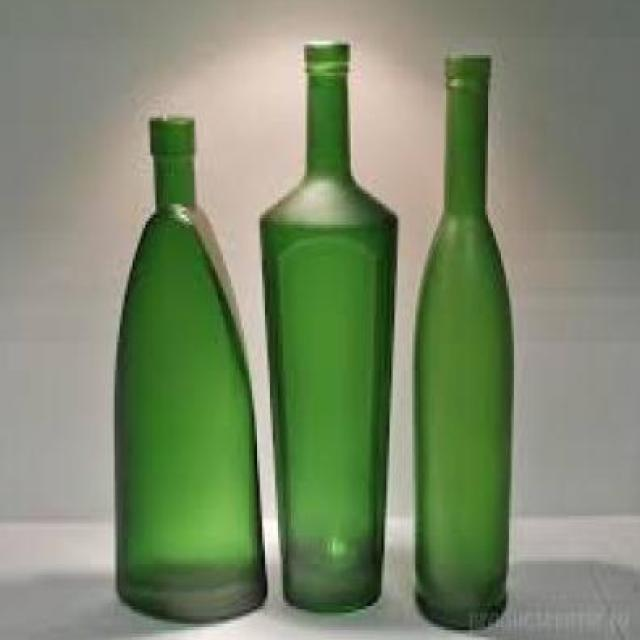kaca: (258, 37, 398, 609), (112, 114, 266, 620), (410, 52, 510, 630)
